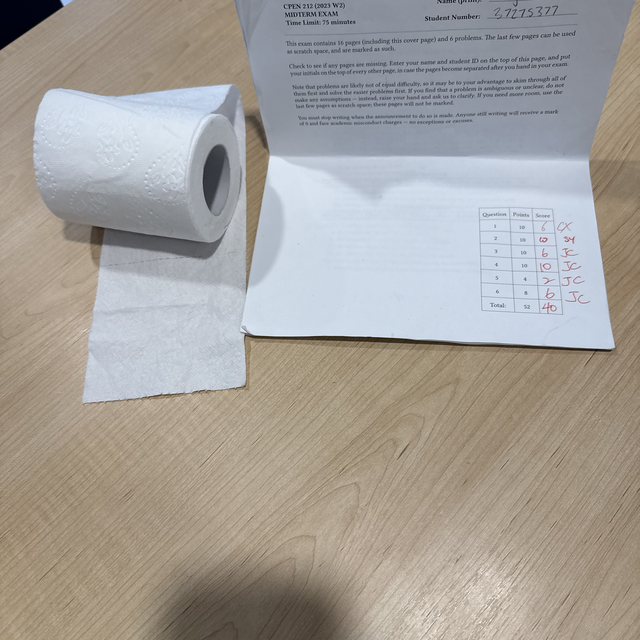Paper: (231, 8, 637, 349)
Toilet Paper: (24, 71, 269, 426)
